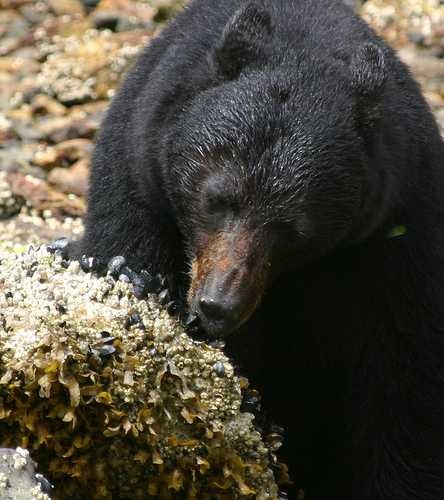bear: (178, 196, 306, 324), (209, 1, 337, 129)
